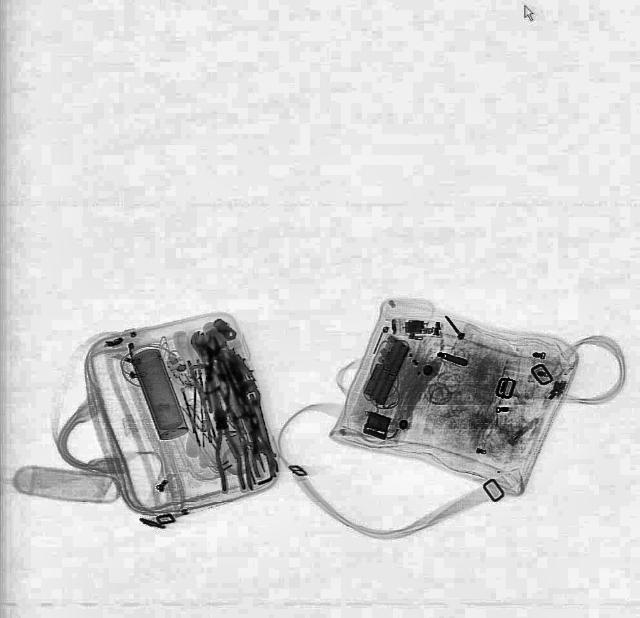Pliers: (202, 390, 248, 493), (182, 356, 212, 402)
